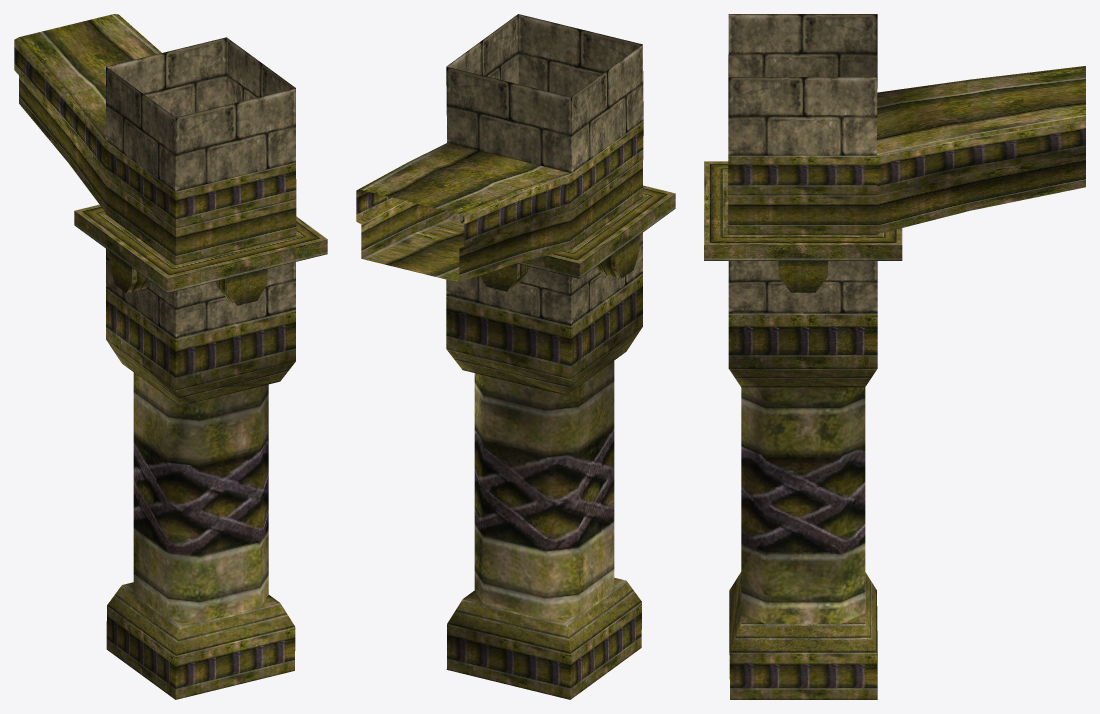
Rendered from OVERHILL_A_01_OBJECT192.fbx.
The picture shows the model from 3 angles, left to right: view 1: azimuth 30°, elevation 25°; view 2: azimuth 150°, elevation 25°; view 3: azimuth 270°, elevation 25°; orthographic projection. The views are drawn at different scales.
Parts seen in each view (by area): view 1: OVERHILL_A_01_OBJECT192; view 2: OVERHILL_A_01_OBJECT192; view 3: OVERHILL_A_01_OBJECT192.
Boxes of the visible parts, box(x1,y1,x2,y2) form: OVERHILL_A_01_OBJECT192: box(14, 14, 327, 699); OVERHILL_A_01_OBJECT192: box(356, 14, 675, 699); OVERHILL_A_01_OBJECT192: box(704, 14, 1085, 699).
Bounding box in the file's own units: 16511 × 57259 × 31793.
6 materials, 6 textured.
